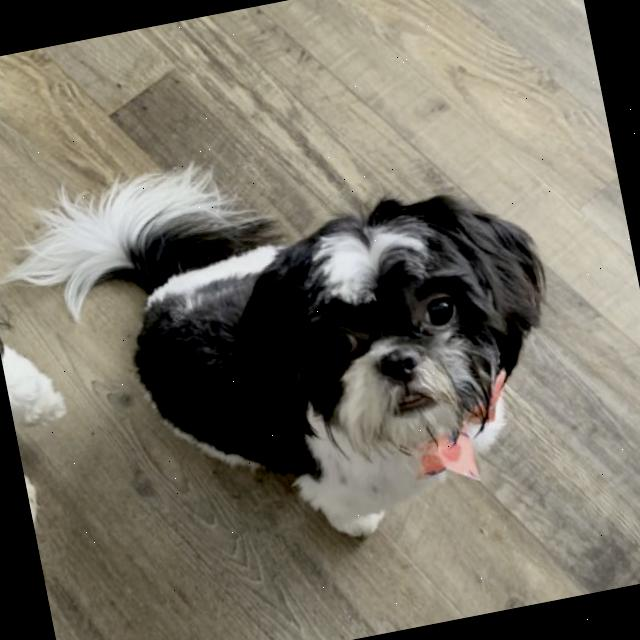shih_tzu_dog: (210, 166, 582, 492)
